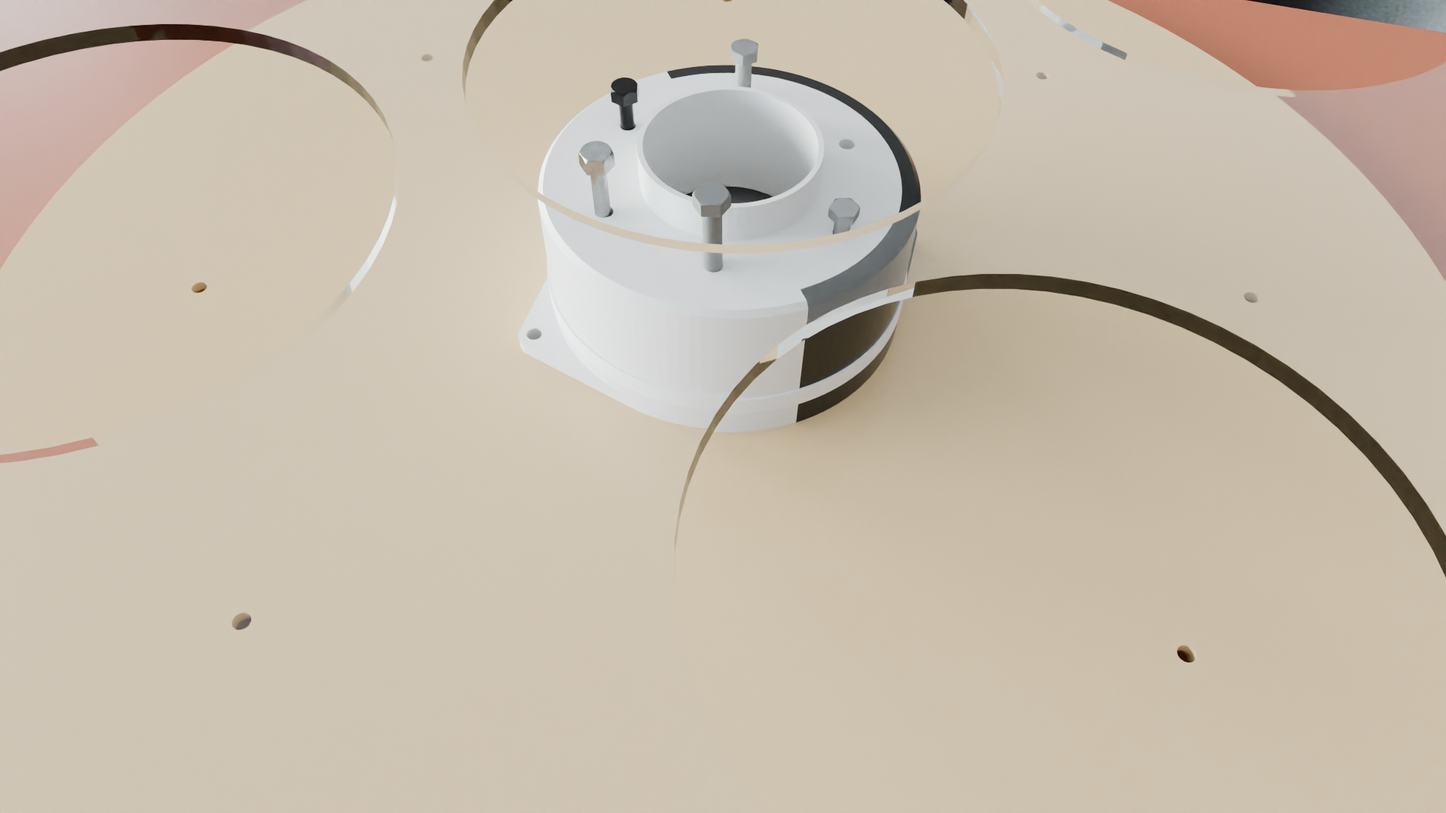bolt: (692, 183, 731, 207), (578, 141, 614, 164), (829, 198, 860, 218), (611, 78, 638, 98), (731, 38, 758, 56)
